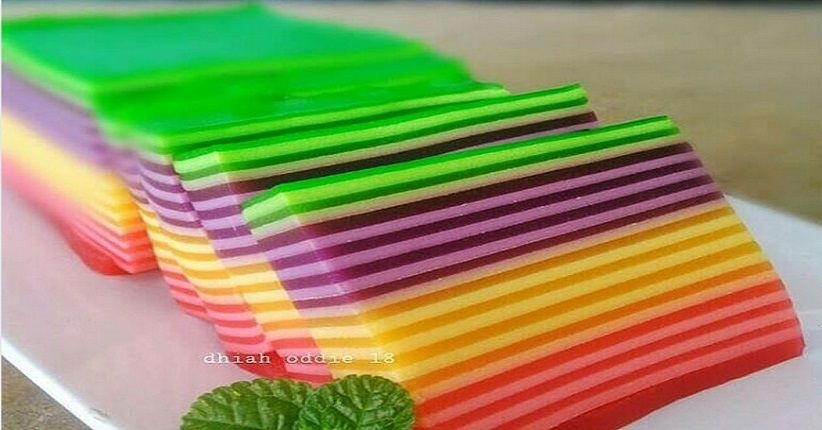kue_lapis_pelangi: (241, 114, 803, 429)
